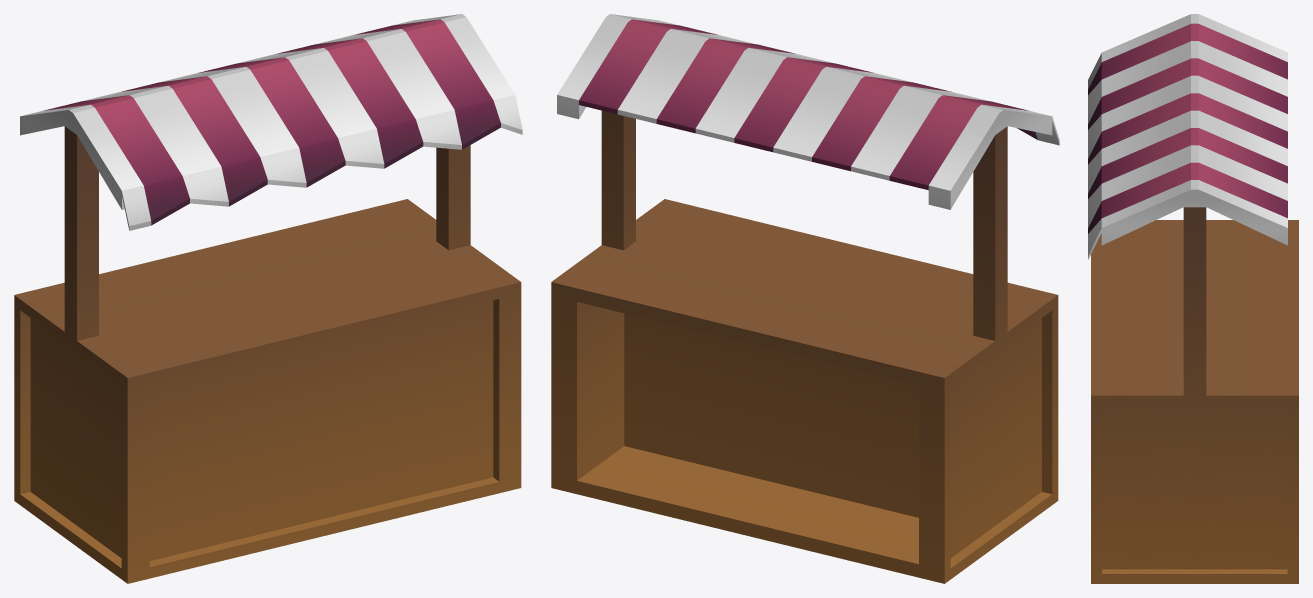
File: marketStall4.fbx
The picture shows the model from 3 angles, left to right: view 1: azimuth 30°, elevation 25°; view 2: azimuth 150°, elevation 25°; view 3: azimuth 270°, elevation 25°; orthographic projection. The views are drawn at different scales.
Parts seen in each view (by area): view 1: Cube; view 2: Cube; view 3: Cube.
Part boxes in pixels (<box>): Cube: <box>14,14,522,583</box>; Cube: <box>551,14,1059,583</box>; Cube: <box>1088,14,1298,583</box>.
Bounding box in the file's own units: 152 × 77.25 × 159.
